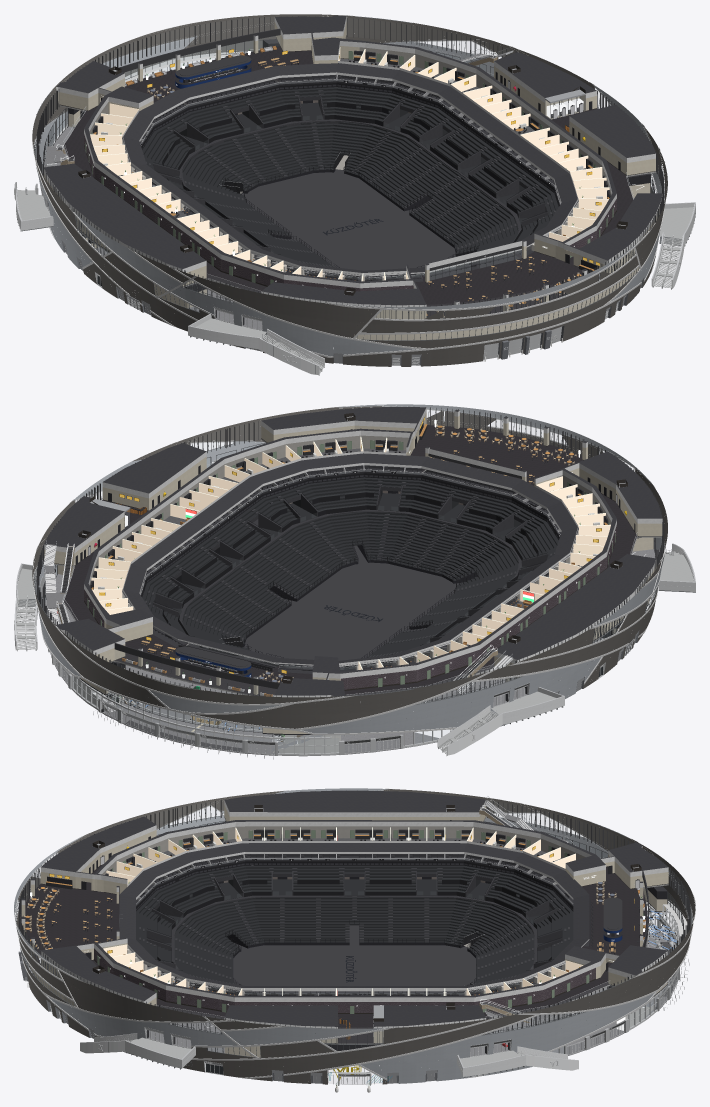
3 renders of one model, top to bottom at view 1: azimuth 30°, elevation 25°; view 2: azimuth 150°, elevation 25°; view 3: azimuth 270°, elevation 25°, orthographic. The views are drawn at different scales.
Size of the model in its own units: 147 by 19.48 by 170.
251 materials, 109 textured.
